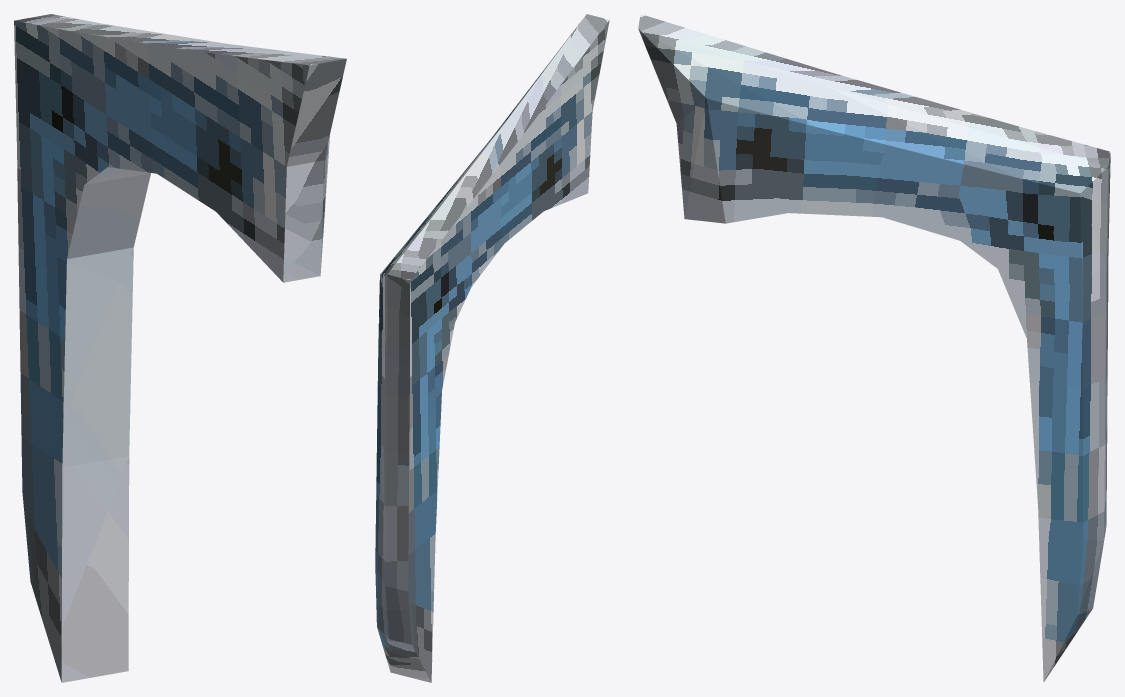
Rendered from Boomerang.obj.
The picture shows the model from 3 angles, left to right: view 1: azimuth 30°, elevation 25°; view 2: azimuth 150°, elevation 25°; view 3: azimuth 270°, elevation 25°; orthographic projection. The views are drawn at different scales.
Visible parts, largest first — view 1: Boomerang:Mesh; view 2: Boomerang:Mesh; view 3: Boomerang:Mesh.
Boxes of the visible parts, x1,y1,x2,y2 form: Boomerang:Mesh: (14,14,346,682); Boomerang:Mesh: (375,14,609,682); Boomerang:Mesh: (638,14,1110,682).
Bounding box in the file's own units: 0.1711 × 1.79 × 1.2.
1 material, 1 textured.
